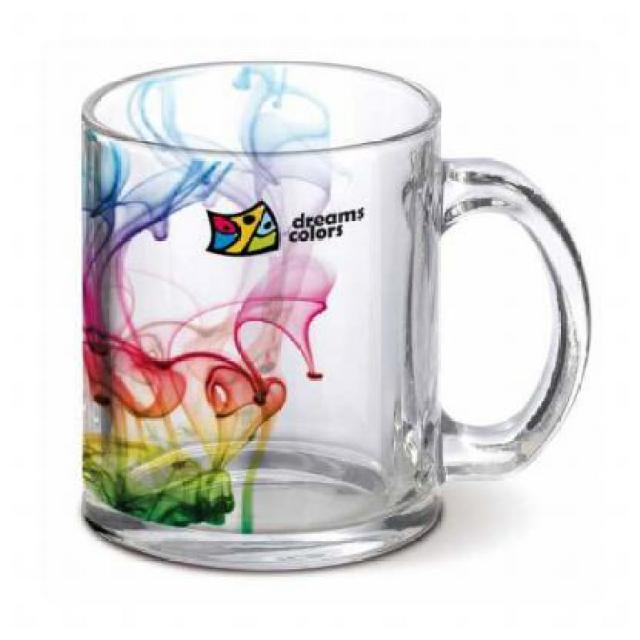taza: (78, 62, 594, 574)
